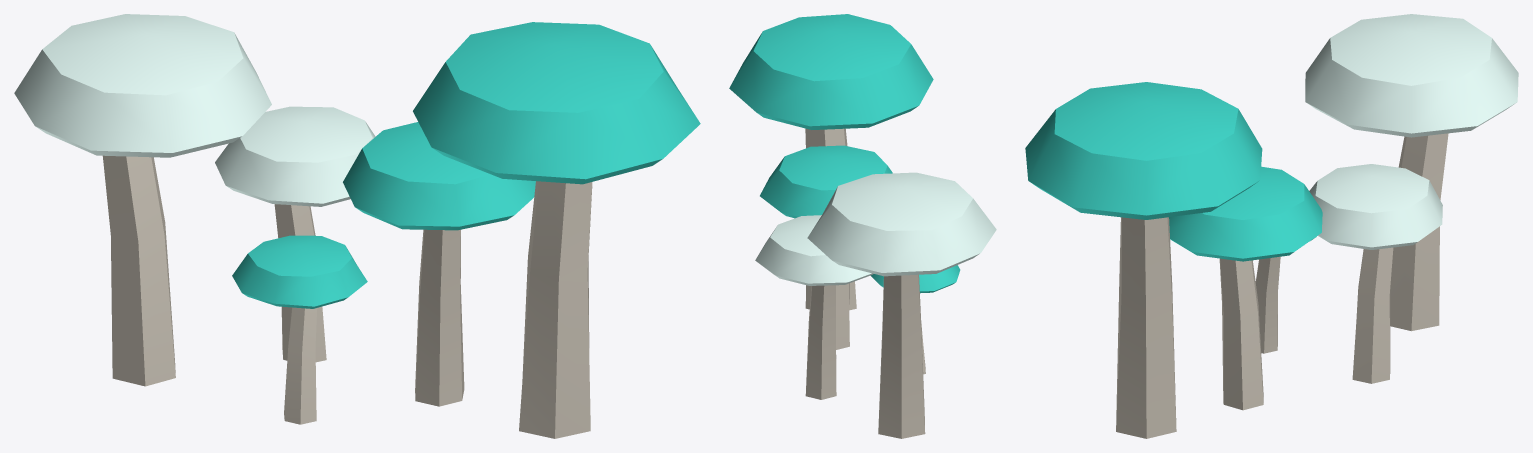
The model's file is MushroomCluster.fbx.
The picture shows the model from 3 angles, left to right: view 1: azimuth 30°, elevation 25°; view 2: azimuth 150°, elevation 25°; view 3: azimuth 270°, elevation 25°; orthographic projection. The views are drawn at different scales.
Visible parts, largest first — view 1: Cap, Stem, Spots; view 2: Cap, Spots, Stem; view 3: Cap, Stem, Spots.
Boxes of the visible parts, x1,y1,x2,y2 form: Cap: (232,22,700,308); Stem: (102,155,592,438); Spots: (14,14,375,206); Cap: (729,14,960,293); Spots: (755,172,996,285); Stem: (805,128,925,438); Cap: (1025,82,1322,261); Stem: (1116,133,1448,438); Spots: (1305,14,1518,249).
Size of the model in its own units: 6.8 by 5.04 by 7.
